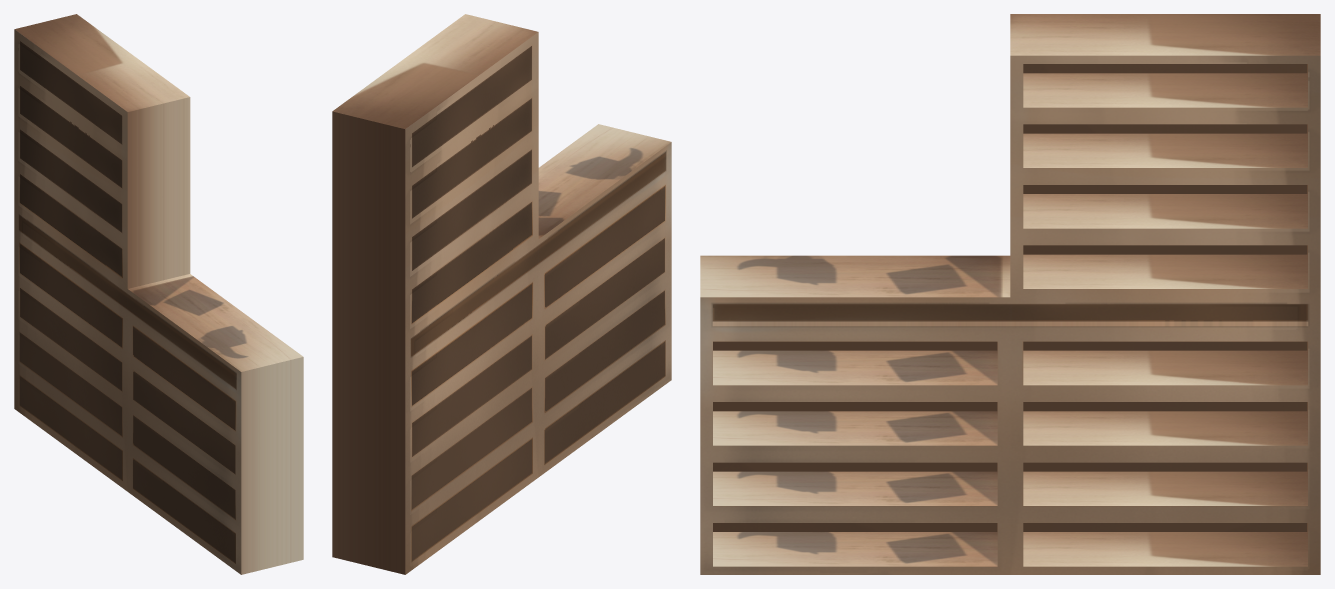
The model's file is Tx_props_uni_bookshelf.fbx.
3 views of the same model, side by side, from view 1: azimuth 30°, elevation 25°; view 2: azimuth 150°, elevation 25°; view 3: azimuth 270°, elevation 25° (orthographic). The views are drawn at different scales.
Parts seen in each view (by area): view 1: Tx_props_uni_bookshelf; view 2: Tx_props_uni_bookshelf; view 3: Tx_props_uni_bookshelf.
Boxes of the visible parts, <box> form: Tx_props_uni_bookshelf: <box>14,14,303,574</box>; Tx_props_uni_bookshelf: <box>332,14,671,574</box>; Tx_props_uni_bookshelf: <box>700,14,1320,574</box>.
Bounding box in the file's own units: 3.19 × 18.54 × 20.08.
